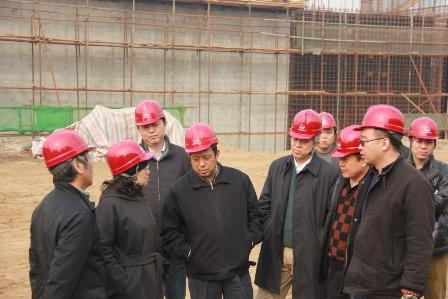helmet: (33, 127, 106, 189), (355, 99, 407, 164), (103, 138, 160, 191), (178, 119, 222, 177), (285, 107, 325, 161), (128, 98, 169, 148), (333, 126, 368, 177), (405, 116, 441, 164), (314, 111, 338, 154)
